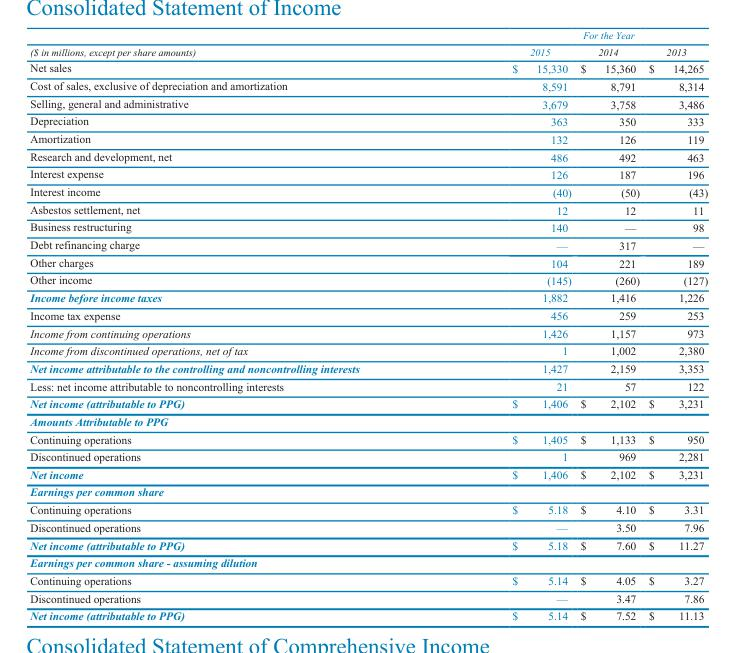table: (29, 29, 707, 621)
table column: (29, 29, 435, 621), (435, 29, 575, 621), (575, 29, 643, 621), (643, 29, 707, 621)
table column header: (29, 29, 707, 59)
table projected row header: (29, 482, 707, 500), (29, 553, 707, 571), (29, 412, 707, 429)
table row: (29, 76, 707, 94), (29, 94, 707, 112), (29, 129, 707, 147), (29, 147, 707, 165), (29, 182, 707, 200), (29, 200, 707, 218), (29, 235, 707, 253), (29, 253, 707, 271), (29, 288, 707, 306), (29, 323, 707, 341), (29, 341, 707, 359), (29, 376, 707, 394), (29, 394, 707, 412), (29, 429, 707, 447), (29, 447, 707, 465), (29, 482, 707, 500), (29, 500, 707, 518), (29, 535, 707, 553), (29, 553, 707, 571), (29, 571, 707, 589), (29, 59, 707, 76), (29, 112, 707, 129), (29, 165, 707, 182), (29, 218, 707, 235), (29, 271, 707, 288), (29, 306, 707, 323), (29, 359, 707, 376), (29, 412, 707, 429), (29, 465, 707, 482), (29, 518, 707, 535), (29, 589, 707, 606), (29, 43, 707, 59), (29, 606, 707, 621), (29, 29, 707, 43)
table spanning cell: (29, 29, 435, 59), (435, 29, 707, 43)
